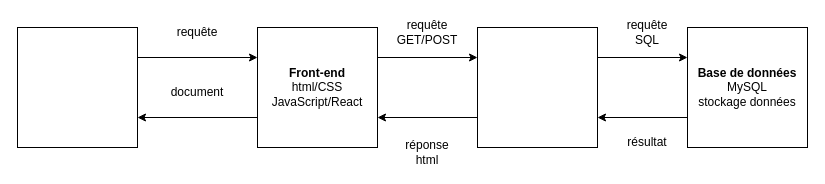
Some shapes in this 825 by 184 pixel diagram are drawn without their labels. The shapes that lost their labels are listed below. From the top down, each one's box as (x1, y1, x2, y2) in pixels, then its label:
(16, 26, 138, 148): utilisateurs
(476, 26, 598, 148): Back-end php serveur local wamp
